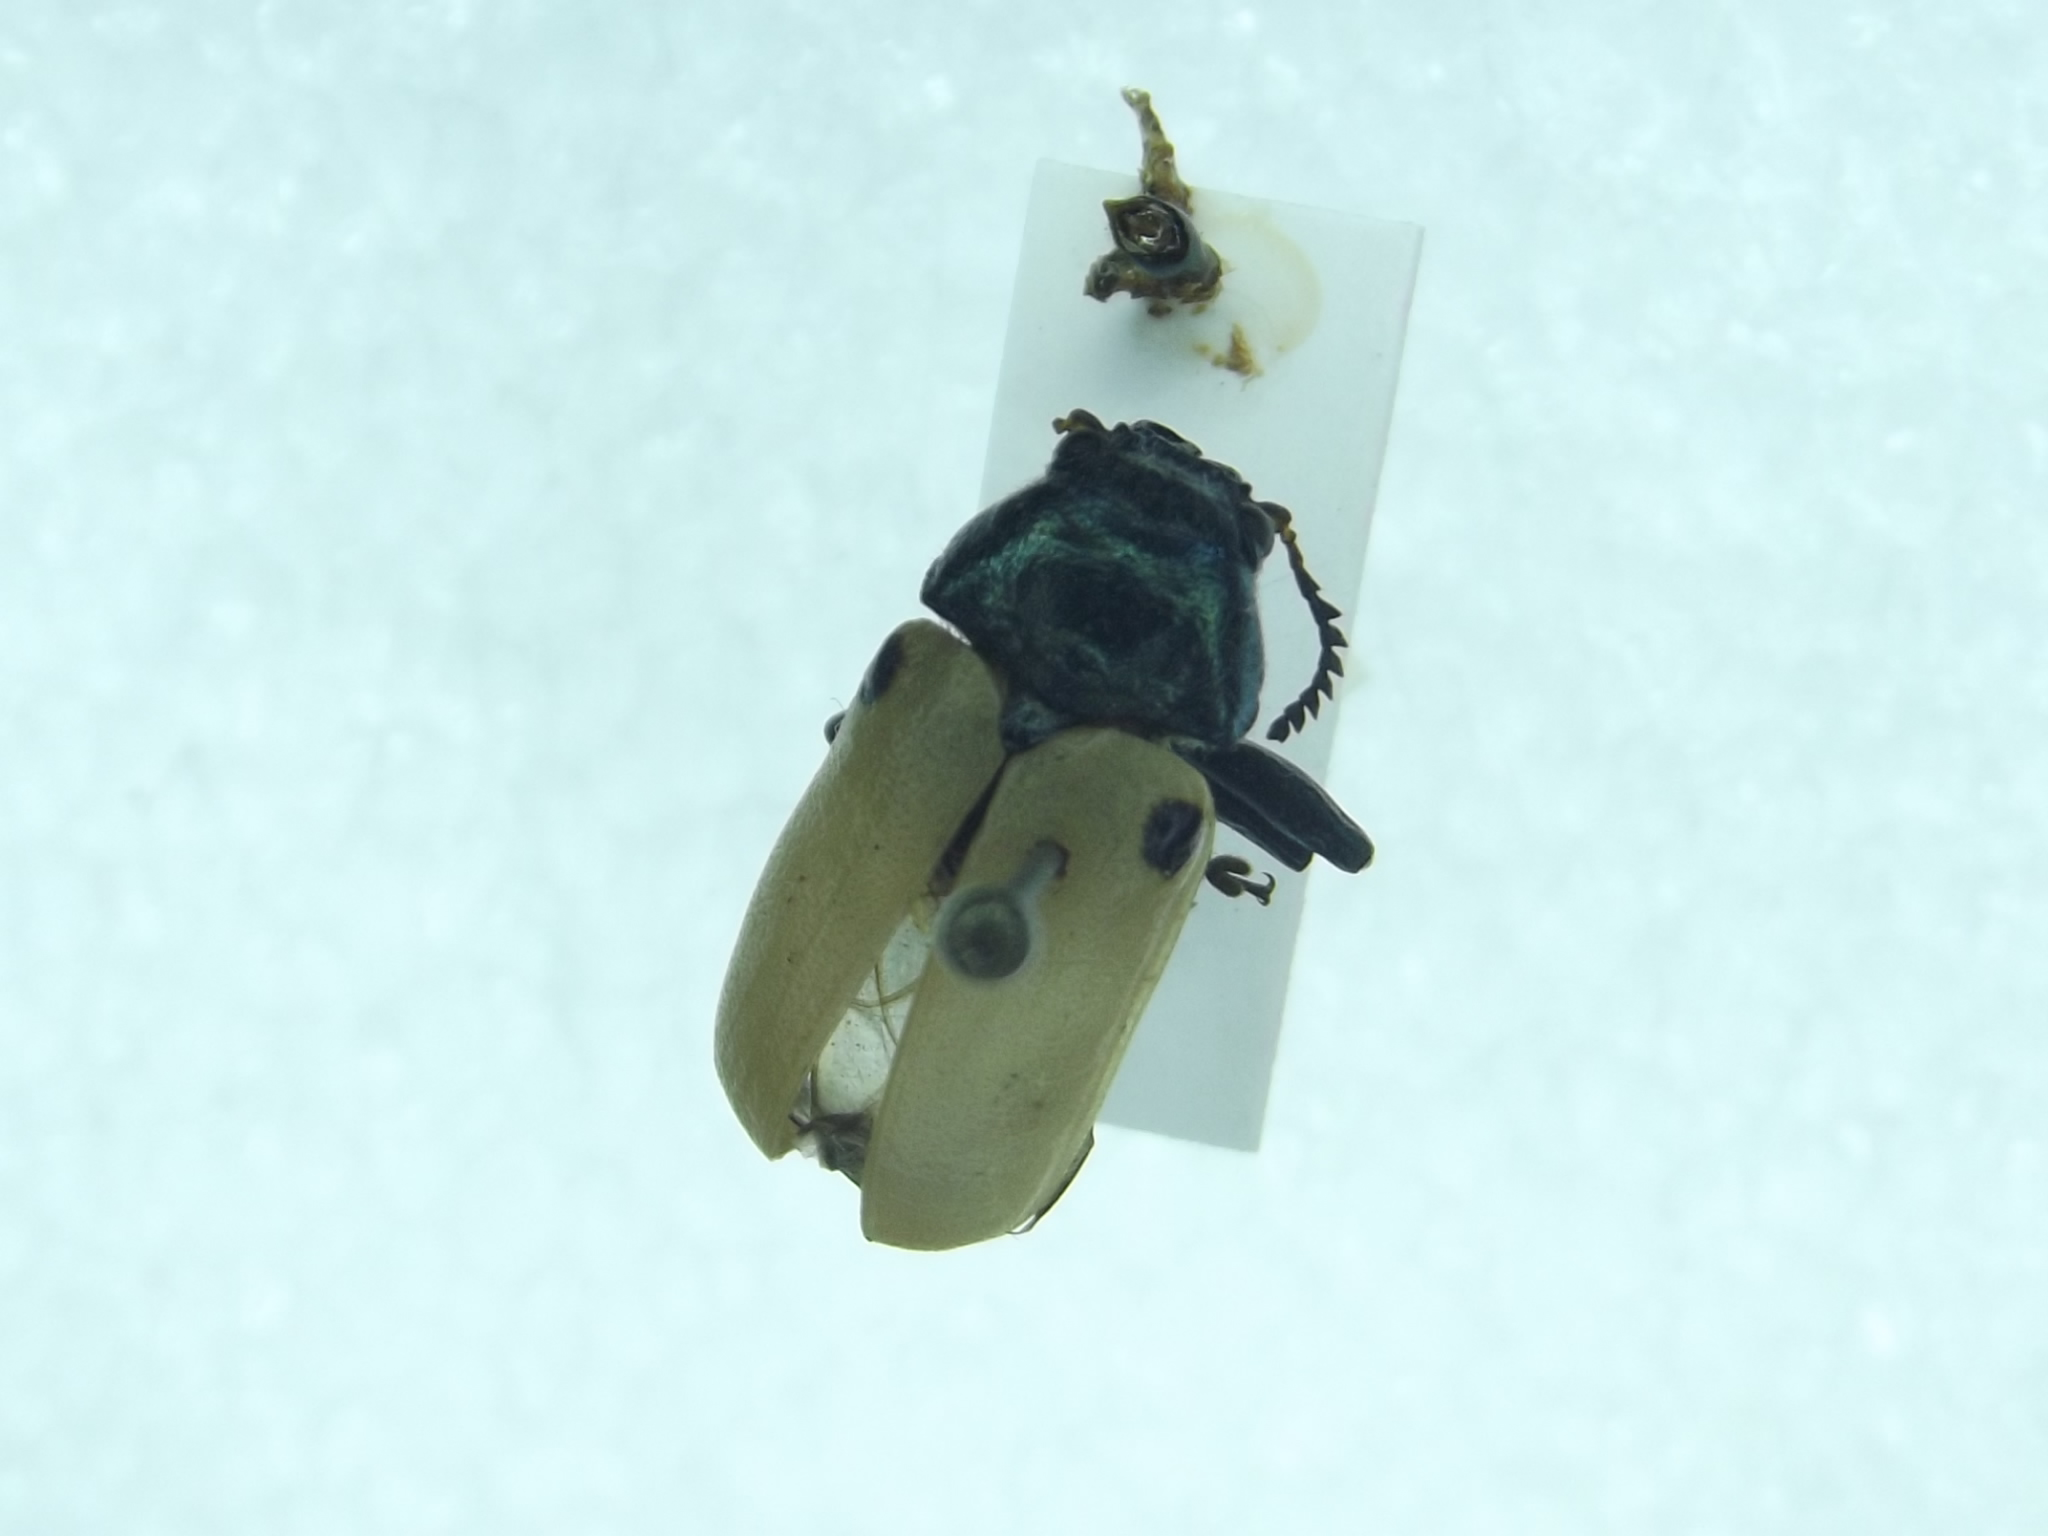Labidostomis_asiatica: (693, 382, 1385, 1250)
